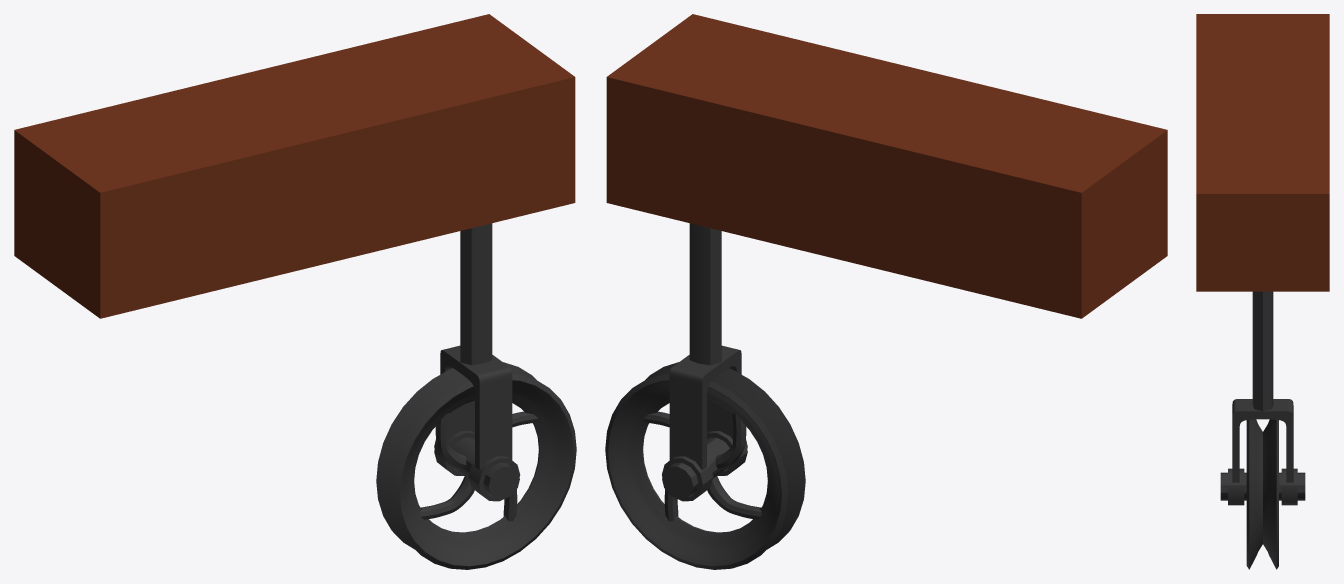
File: Poulie.glb
3 renders of one model, left to right at view 1: azimuth 30°, elevation 25°; view 2: azimuth 150°, elevation 25°; view 3: azimuth 270°, elevation 25°, orthographic. The views are drawn at different scales.
Visible parts, largest first — view 1: TubePoulie; view 2: TubePoulie; view 3: TubePoulie.
Part boxes in pixels (box(x1,y1,x2,y2)): TubePoulie: box(14, 14, 576, 569); TubePoulie: box(605, 14, 1167, 569); TubePoulie: box(1196, 14, 1329, 569).
Bounding box in the file's own units: 0.6766 × 0.6354 × 0.1975.
